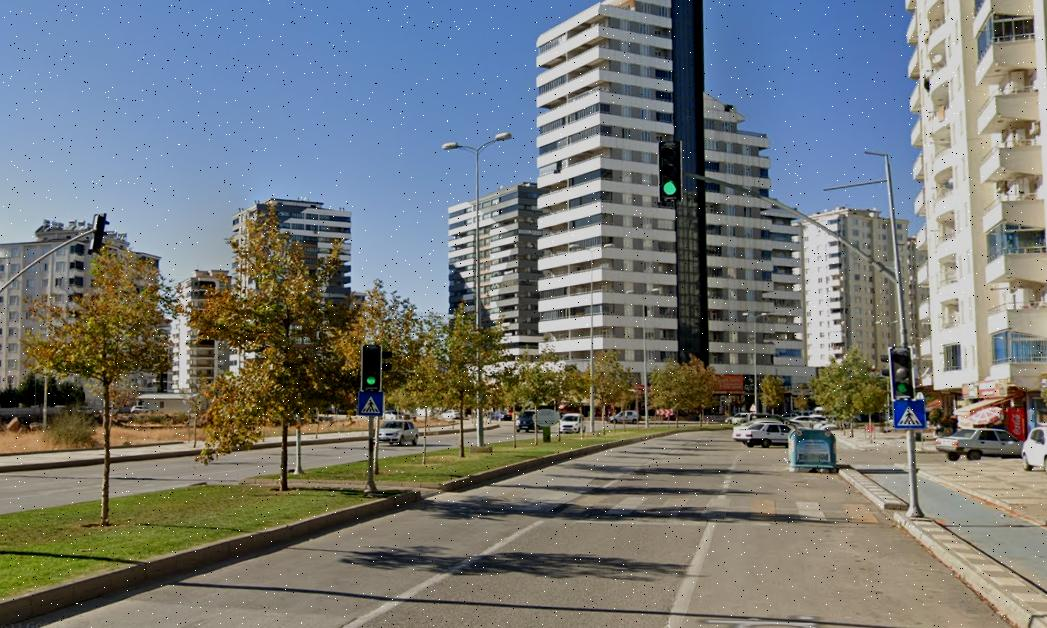greenlight: (659, 144, 683, 195), (891, 348, 914, 393), (362, 345, 379, 386)
